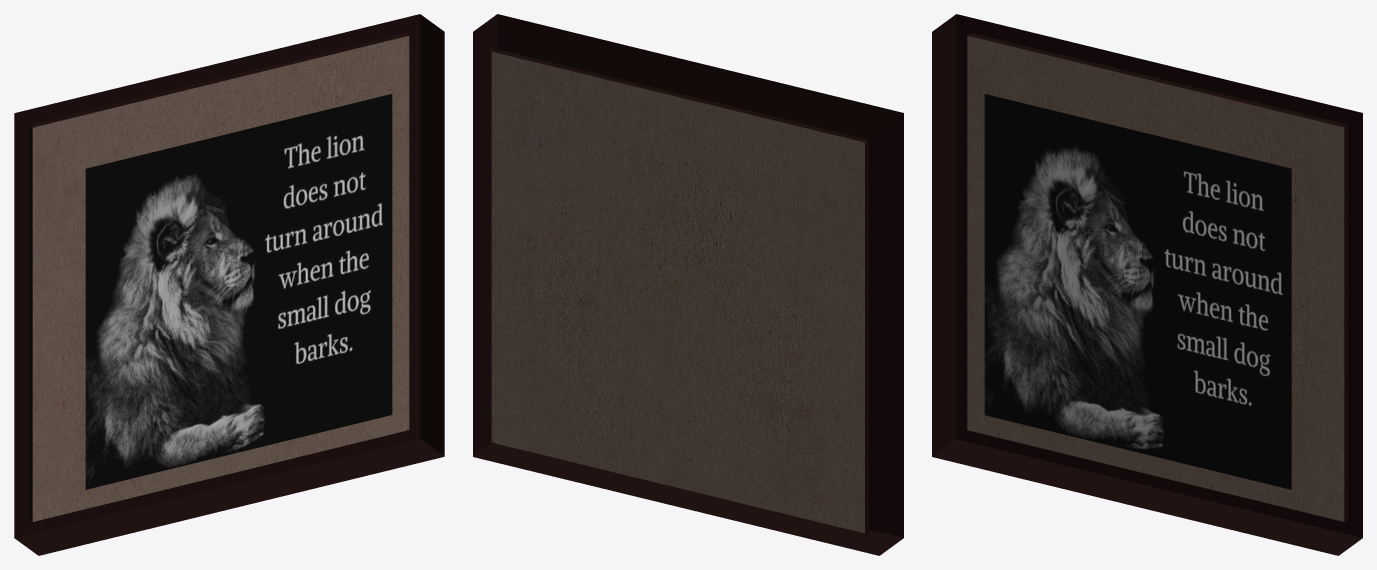
The model's file is lion.glb.
3 views of the same model, side by side, from view 1: azimuth 30°, elevation 25°; view 2: azimuth 150°, elevation 25°; view 3: azimuth 330°, elevation 25° (orthographic).
Visible parts, largest first — view 1: Frame 1; view 2: Frame 1; view 3: Frame 1.
Boxes of the visible parts, left/top/right/bottom form: Frame 1: left=14, top=14, right=444, bottom=555; Frame 1: left=473, top=14, right=903, bottom=555; Frame 1: left=932, top=14, right=1362, bottom=555.
Bounding box in the file's own units: 2 × 2 × 0.2091.
3 materials, 2 textured.
